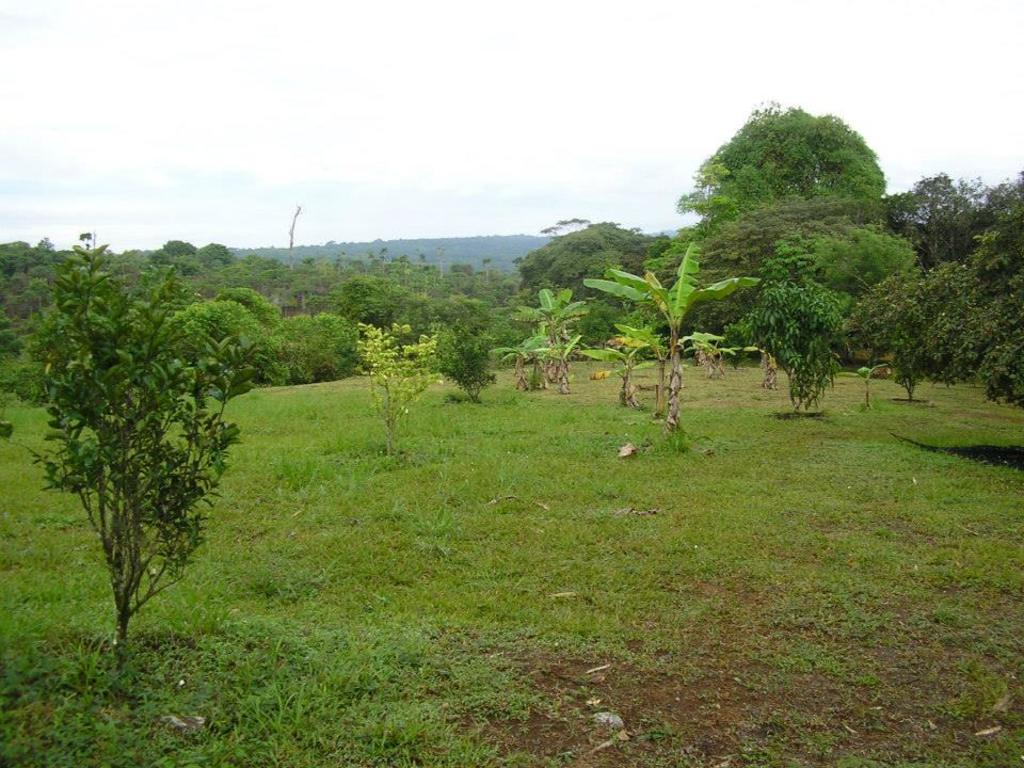Tree: (0, 99, 1020, 418)
